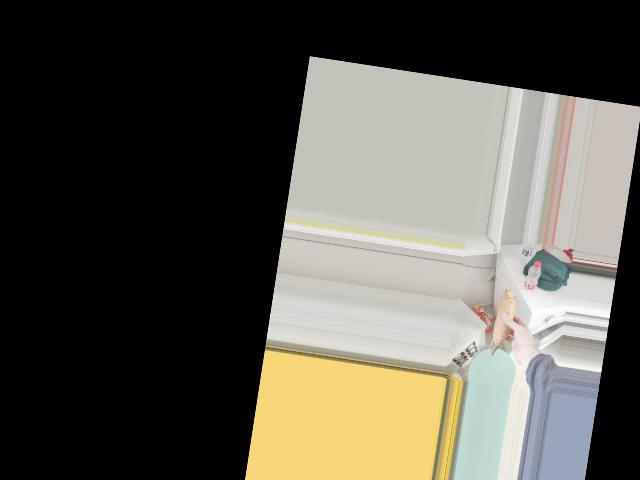sweet_potato: (492, 285, 521, 354)
